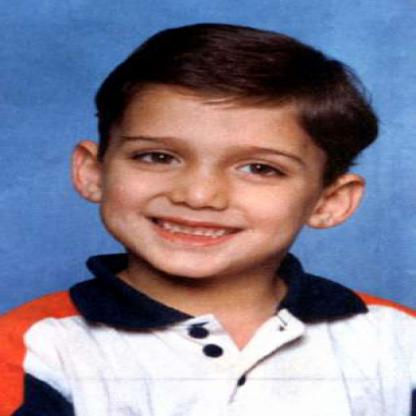face: (102, 48, 334, 281)
